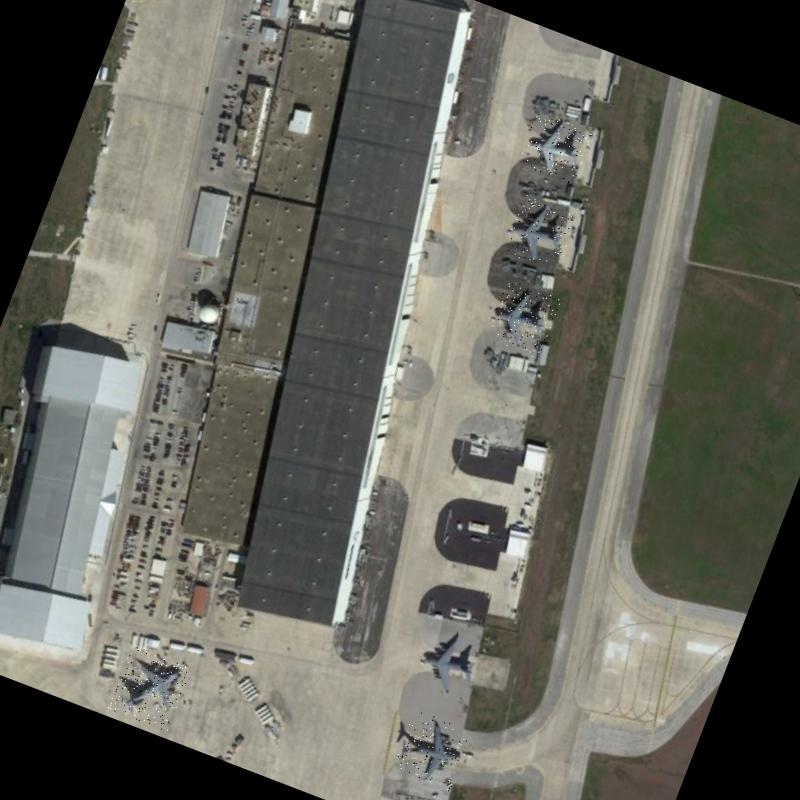A3: (107, 645, 191, 731), (390, 708, 473, 792), (411, 622, 491, 702), (484, 278, 561, 359), (502, 193, 579, 272), (517, 110, 594, 185)
